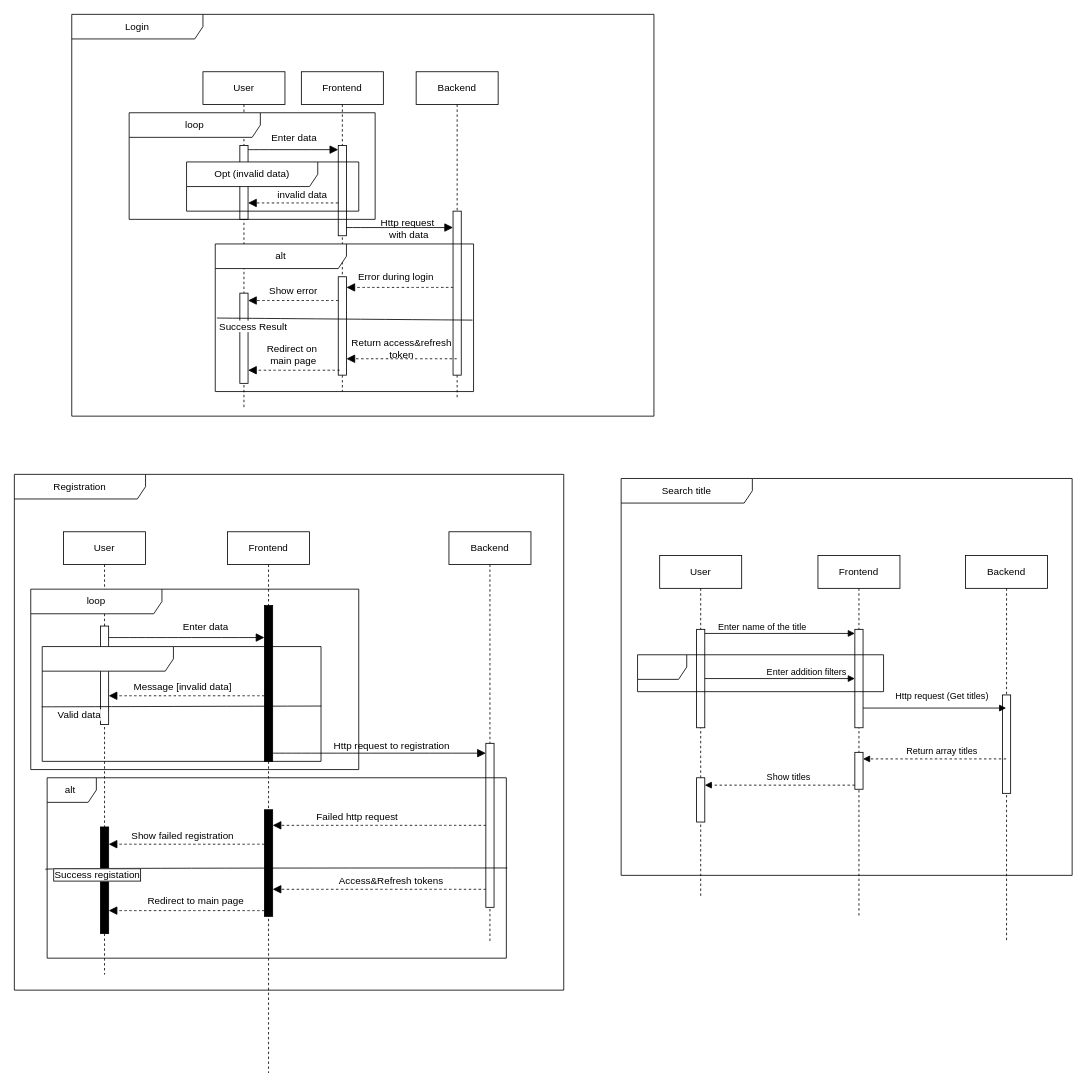
Some shapes in this 1087 by 1087 pixel diagram are drawn without their labels. Each missing label, with the centre of its shape:
"alt[invalid data]" belongs at [181,703].
"Opt" belongs at [760,673].
